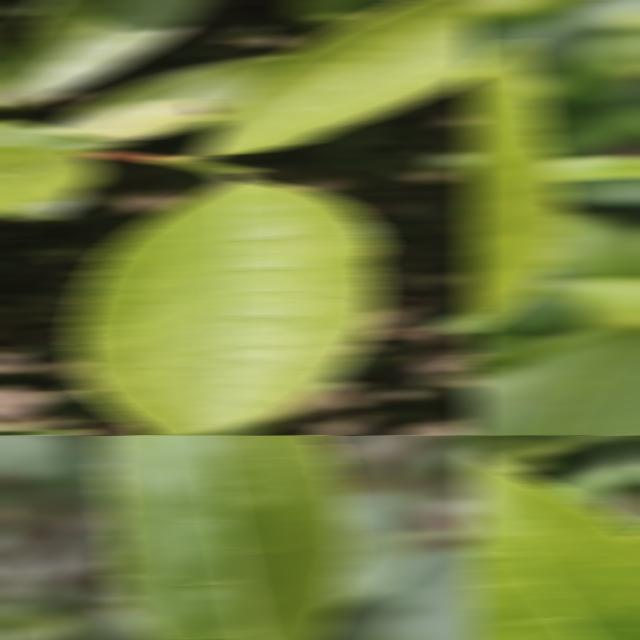Leaf: (72, 177, 382, 435), (98, 435, 353, 640), (193, 0, 480, 158), (466, 452, 640, 640), (466, 39, 569, 335), (0, 0, 210, 110), (466, 325, 640, 435), (47, 55, 296, 130), (314, 549, 480, 640), (0, 144, 103, 213), (57, 98, 219, 141), (0, 119, 127, 154), (286, 0, 391, 33), (546, 154, 640, 183)
